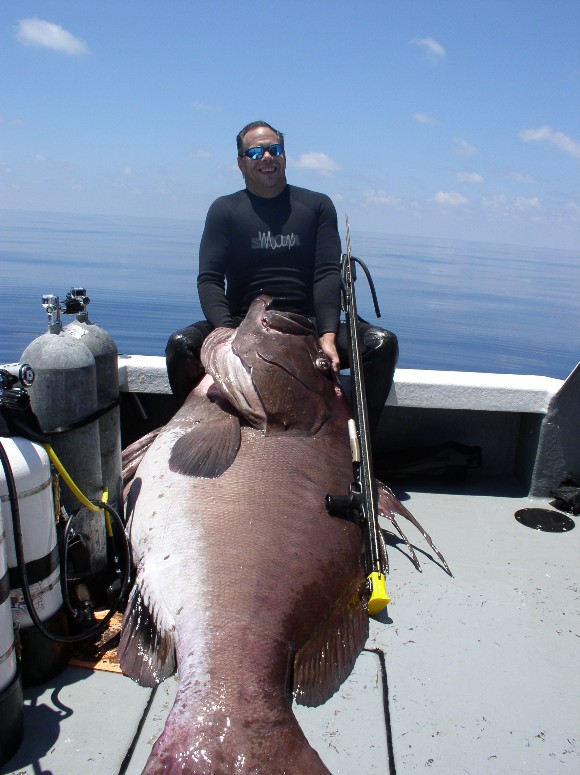fish: (91, 287, 382, 771)
